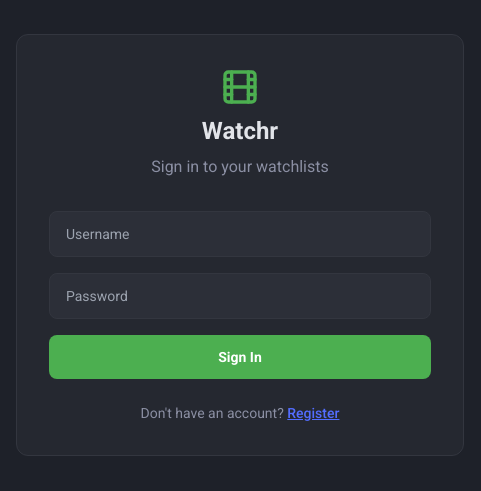
Test case: Login Page › shows error on failed login
In the field with placeholder "Username": (240, 234) [49, 211, 431, 257], type "bad"
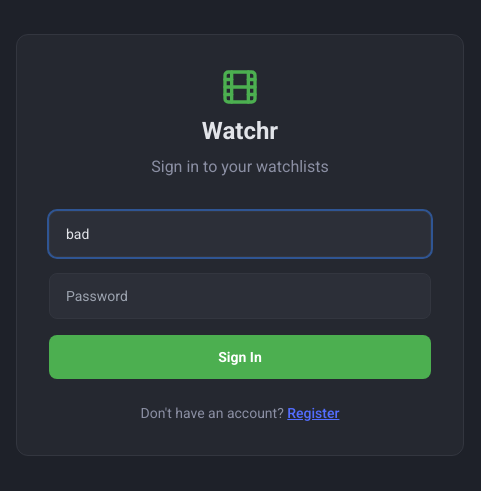
In the password field with placeholder "Password": (240, 296) [49, 273, 431, 319], type "bad"
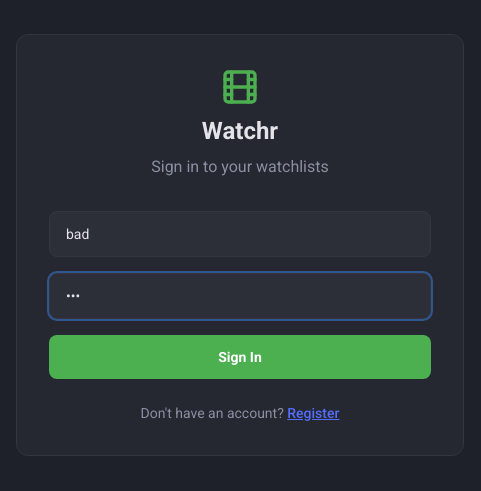
Click the button "Sign In": (240, 357) [49, 335, 431, 379]
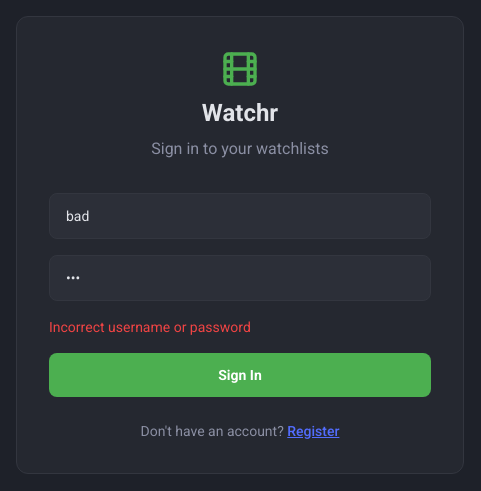
Result: the text "Incorrect username or password" is shown at [49, 319, 251, 335]
